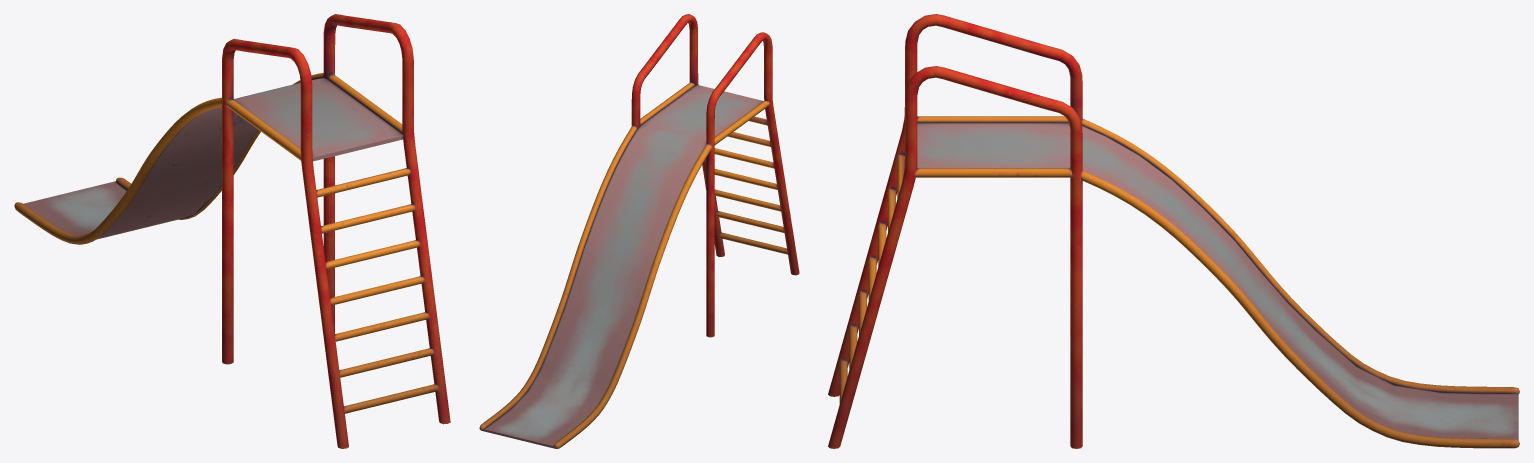
File: slide.gltf
3 renders of one model, left to right at view 1: azimuth 30°, elevation 25°; view 2: azimuth 150°, elevation 25°; view 3: azimuth 270°, elevation 25°, orthographic. The views are drawn at different scales.
Parts seen in each view (by area): view 1: Basis, Slide; view 2: Slide, Basis; view 3: Basis, Slide.
Boxes of the visible parts, x1=… form: Basis: x1=14, y1=14, x2=450, y2=448; Slide: x1=23, y1=78, x2=403, y2=239; Slide: x1=482, y1=85, x2=763, y2=448; Basis: x1=479, y1=14, x2=799, y2=448; Basis: x1=828, y1=14, x2=1519, y2=448; Slide: x1=917, y1=123, x2=1518, y2=439.
Bounding box in the file's own units: 0.66 × 2.05 × 3.37.
1 material, 1 textured.
